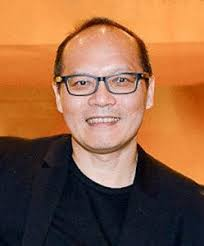asian_male: (51, 13, 157, 156)
